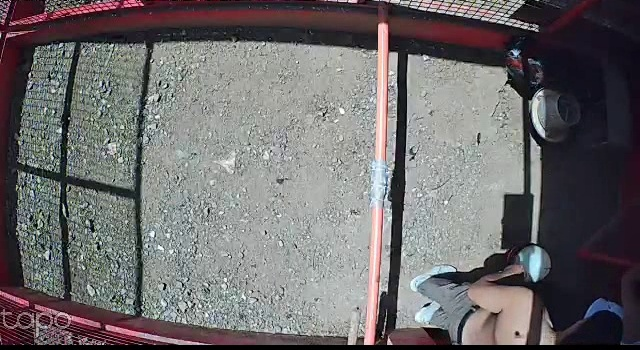Drinker: (505, 240, 553, 287)
Feeder: (529, 85, 583, 142)
Rooster: (499, 27, 575, 99)
